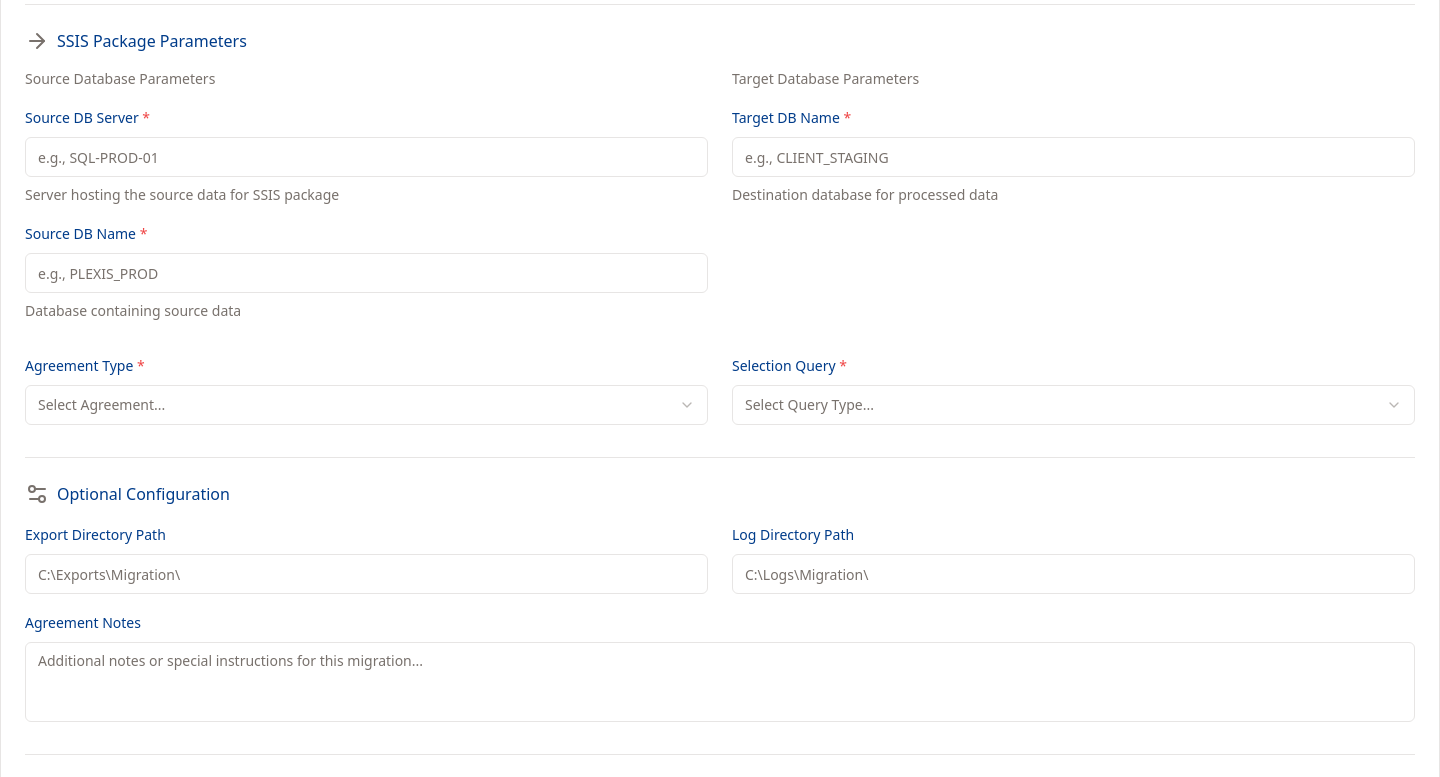
ExecutionForm › shows selection query explanation when criteria is selected
(page scrolled)
Click the dropdown named "selection query" at (809, 404), box [732, 385, 1415, 425]
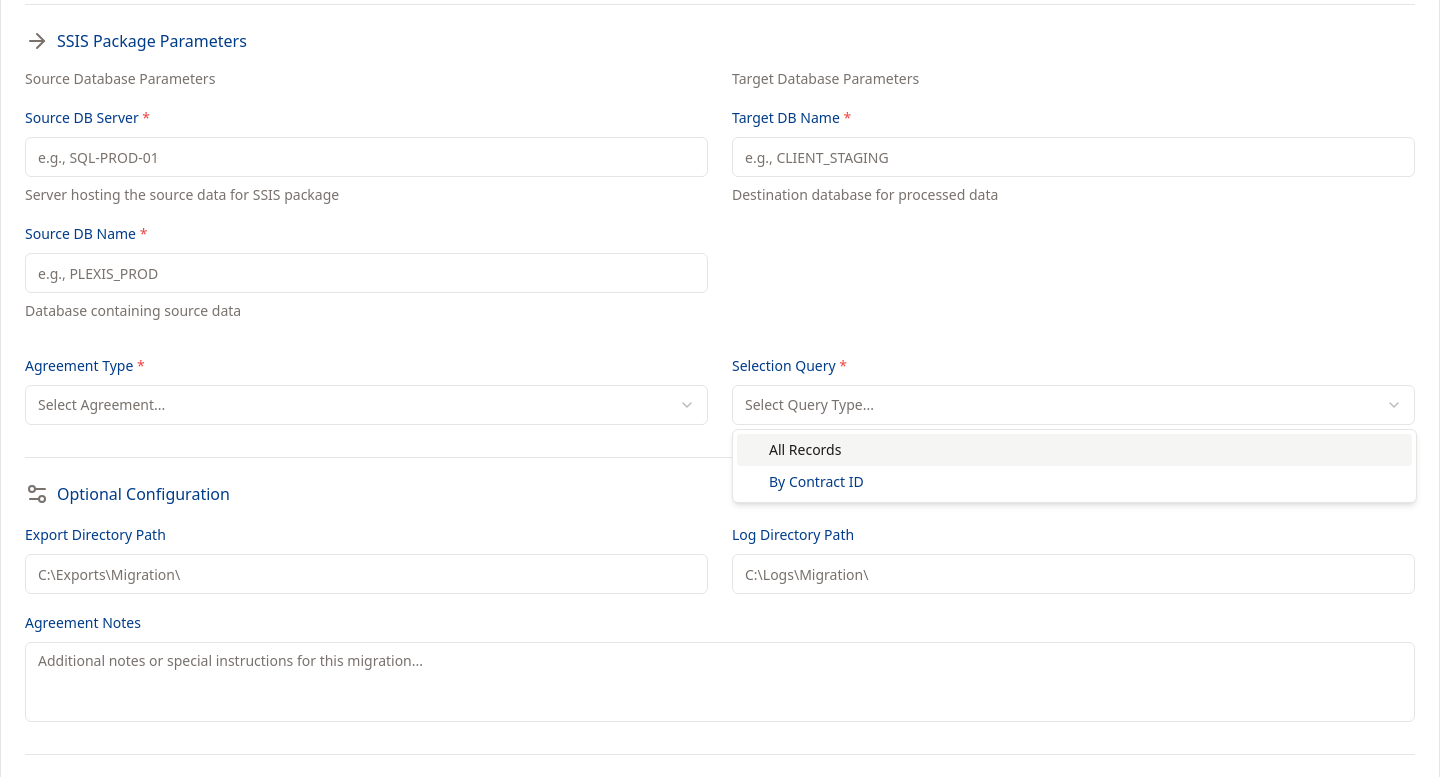
Click the option "By Contract ID" at (816, 482), box [769, 472, 864, 491]
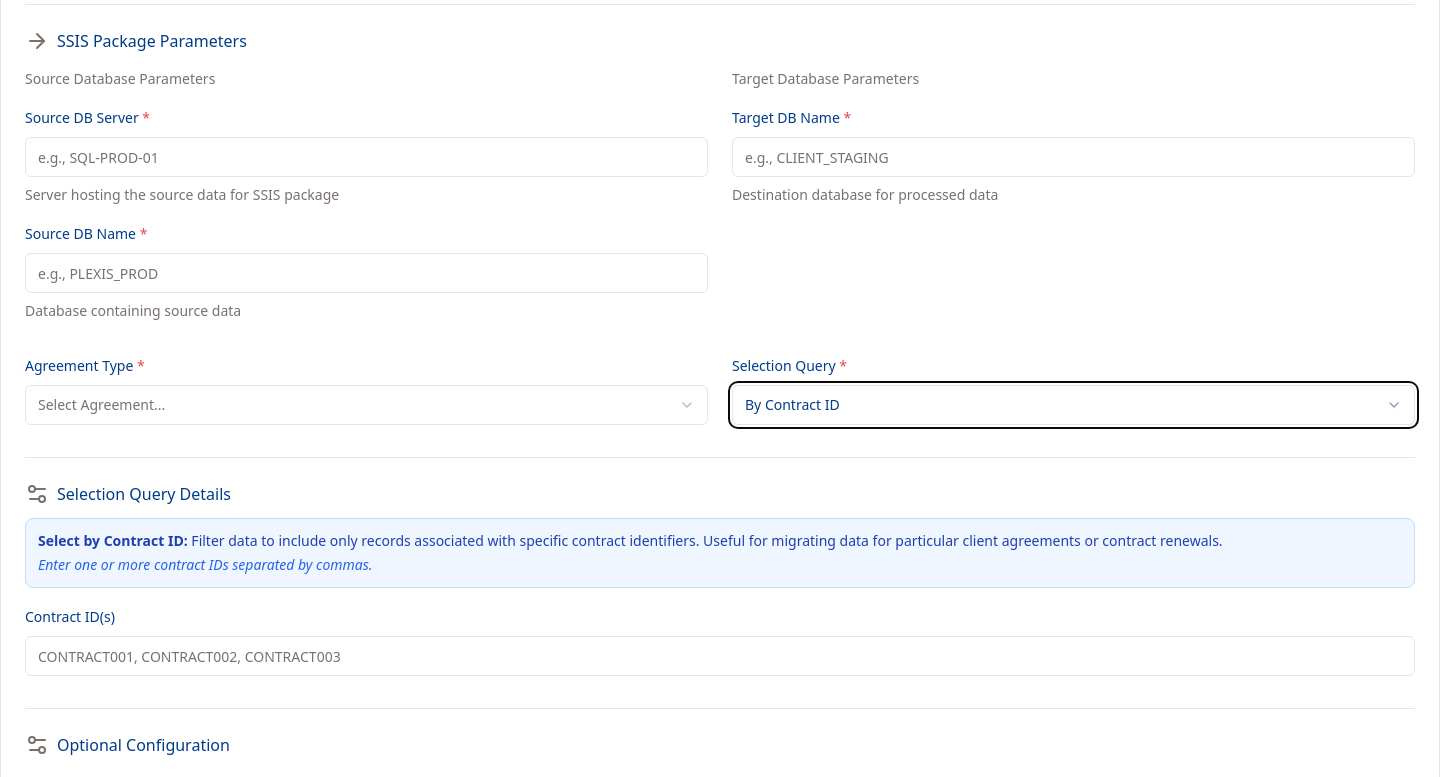
Now the text "Select by Contract ID:" is shown, box [38, 531, 188, 550]
Now the text "Enter one or more contract IDs separated by commas." is shown, box [38, 555, 372, 574]
